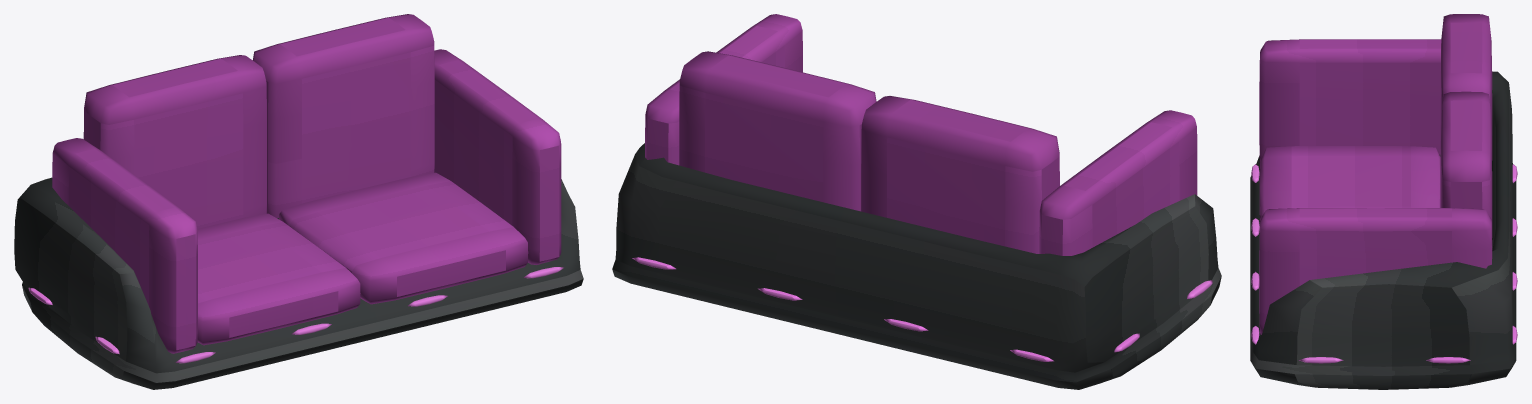
The model's file is Couch02_Purple.fbx.
3 renders of one model, left to right at view 1: azimuth 30°, elevation 25°; view 2: azimuth 150°, elevation 25°; view 3: azimuth 270°, elevation 25°, orthographic. The views are drawn at different scales.
Visible parts, largest first — view 1: Sofa_1; view 2: Sofa_1; view 3: Sofa_1.
Boxes of the visible parts, x1=… form: Sofa_1: x1=14, y1=14, x2=583, y2=389; Sofa_1: x1=612, y1=14, x2=1221, y2=389; Sofa_1: x1=1250, y1=14, x2=1517, y2=389.
Size of the model in its own units: 177 by 77.7 by 92.75.
